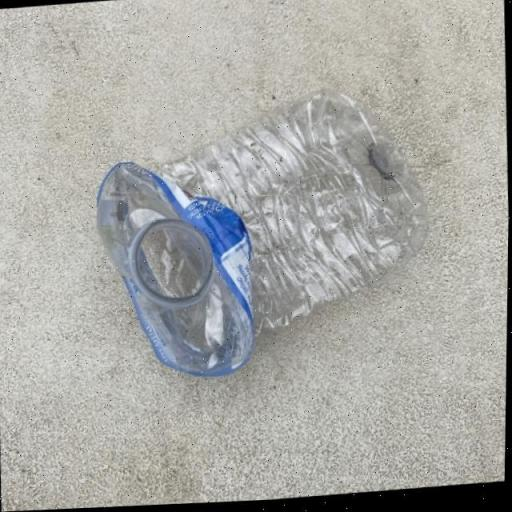plastic: (88, 82, 438, 387)
